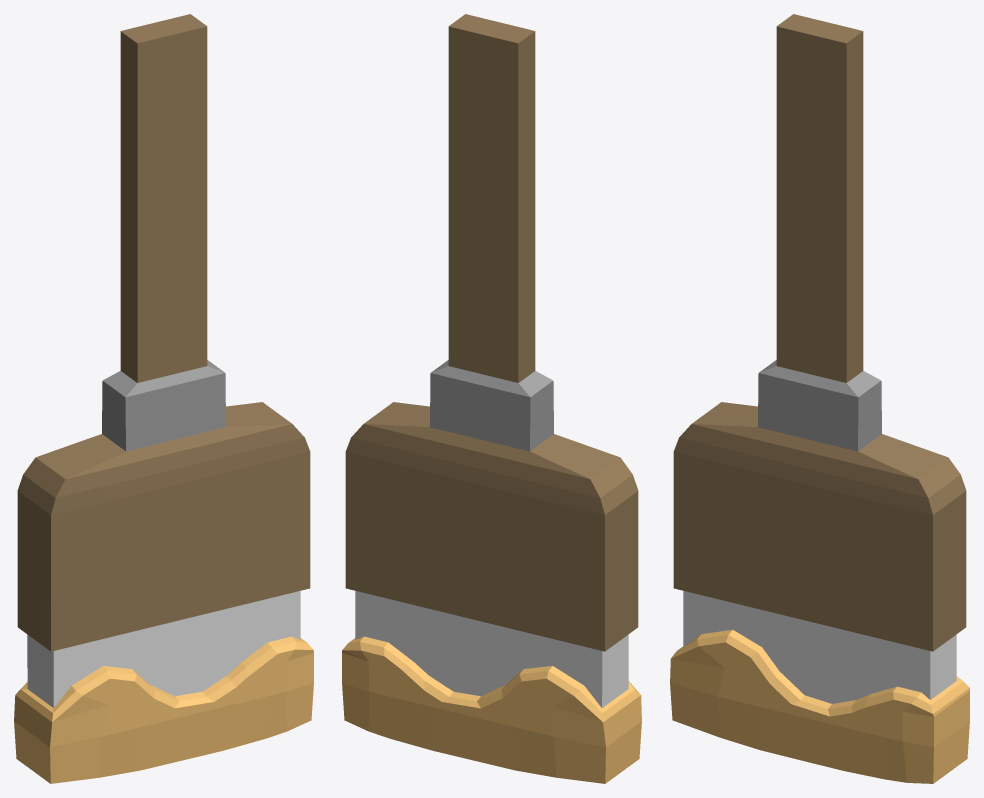
The model's file is Brush.fbx.
3 renders of one model, left to right at view 1: azimuth 30°, elevation 25°; view 2: azimuth 150°, elevation 25°; view 3: azimuth 330°, elevation 25°, orthographic.
Parts seen in each view (by area): view 1: Brush; view 2: Brush; view 3: Brush.
Part boxes in pixels (x1,y1,x2,y2): Brush: [14, 14, 313, 783]; Brush: [342, 14, 641, 783]; Brush: [670, 14, 969, 783].
Bounding box in the file's own units: 5.37 × 13.97 × 1.41.
